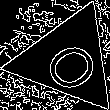O_NE: (32, 27, 103, 92)
